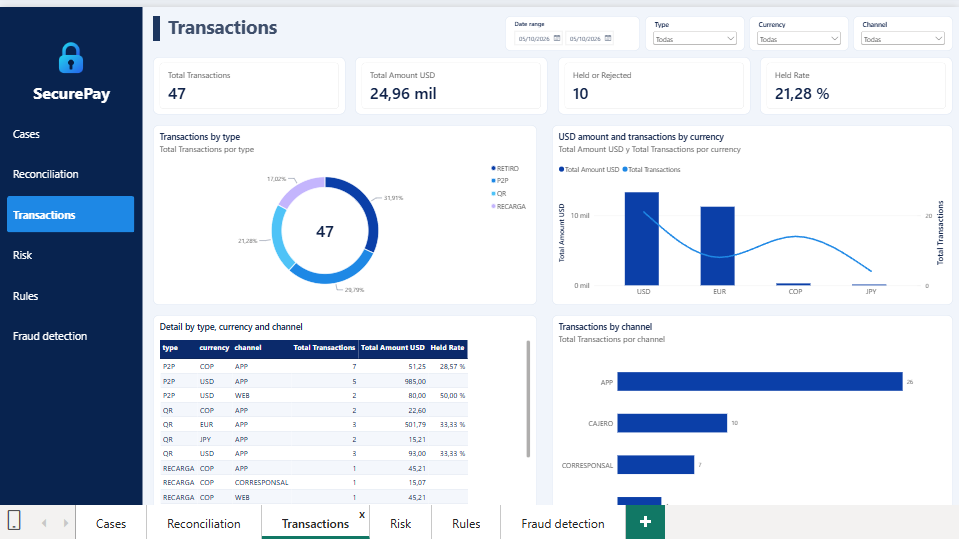

The dashboard page shown, as its layout file describes it:
{"tool":"powerbi","page":{"name":"Transactions","canvas":[1920,1080],"ordinal":2},"visuals":[{"type":"cardVisual","fields":{"Data":["q1_transactions.Total Transactions"]},"box":[395.3,108,293.8,112.3],"z":0},{"type":"cardVisual","fields":{"Data":["q1_transactions.Total Amount USD"]},"box":[807.8,108,300.2,118.8],"z":1000},{"type":"cardVisual","fields":{"Data":["q1_transactions.Held or Rejected"]},"box":[1201,108,300.2,118.8],"z":2000},{"type":"cardVisual","fields":{"Data":["q1_transactions.Held Rate"]},"box":[1600.6,108,298.1,118.8],"z":3000},{"type":"donutChart","fields":{"Category":["q1_transactions.type"],"Y":["q1_transactions.Total Transactions"]},"box":[320,293,488.8,292.3],"z":4000},{"type":"lineClusteredColumnComboChart","fields":{"Category":["q1_transactions.currency"],"Y":["q1_transactions.Total Amount USD"],"Y2":["q1_transactions.Total Transactions"]},"box":[834,288,546.8,297.3],"z":5000},{"type":"clusteredBarChart","fields":{"Category":["q1_transactions.channel"],"Y":["q1_transactions.Total Transactions"]},"box":[1421.1,288,478.7,297.3],"z":6000},{"type":"tableEx","fields":{"Values":["q1_transactions.type","q1_transactions.currency","q1_transactions.channel","q1_transactions.Total Transactions","q1_transactions.Total Amount USD","q1_transactions.Held Rate"]},"box":[706.3,652.3,682.6,395.3],"z":7000},{"type":"slicer","fields":{"Values":["q1_transactions.type"]},"box":[1299,39,180,51],"z":8000},{"type":"slicer","fields":{"Values":["q1_transactions.currency"]},"box":[1509,39,180,51],"z":9000},{"type":"slicer","fields":{"Values":["q1_transactions.channel"]},"box":[1719,39,180,51],"z":10000},{"type":"slicer","fields":{"Values":["q1_transactions.day"]},"box":[1002,39,270,51],"z":11000},{"type":"pageNavigator","box":[15,190,255,480],"z":12000}]}

Visuals, with their boxes on the page's 1920x1080 design canvas (x1, y1, x2, y2). These are canvas units, not pixel positions in the 959x539 screenshot, which may show the page scaled, cropped or inside an application window:
cardVisual - q1_transactions.Total Transactions: left=395, top=108, right=689, bottom=220
cardVisual - q1_transactions.Total Amount USD: left=808, top=108, right=1108, bottom=227
cardVisual - q1_transactions.Held or Rejected: left=1201, top=108, right=1501, bottom=227
cardVisual - q1_transactions.Held Rate: left=1601, top=108, right=1899, bottom=227
donutChart - q1_transactions.type x q1_transactions.Total Transactions: left=320, top=293, right=809, bottom=585
lineClusteredColumnComboChart - q1_transactions.currency x q1_transactions.Total Amount USD: left=834, top=288, right=1381, bottom=585
clusteredBarChart - q1_transactions.channel x q1_transactions.Total Transactions: left=1421, top=288, right=1900, bottom=585
tableEx - q1_transactions.type x q1_transactions.currency: left=706, top=652, right=1389, bottom=1048
slicer - q1_transactions.type: left=1299, top=39, right=1479, bottom=90
slicer - q1_transactions.currency: left=1509, top=39, right=1689, bottom=90
slicer - q1_transactions.channel: left=1719, top=39, right=1899, bottom=90
slicer - q1_transactions.day: left=1002, top=39, right=1272, bottom=90
pageNavigator: left=15, top=190, right=270, bottom=670
